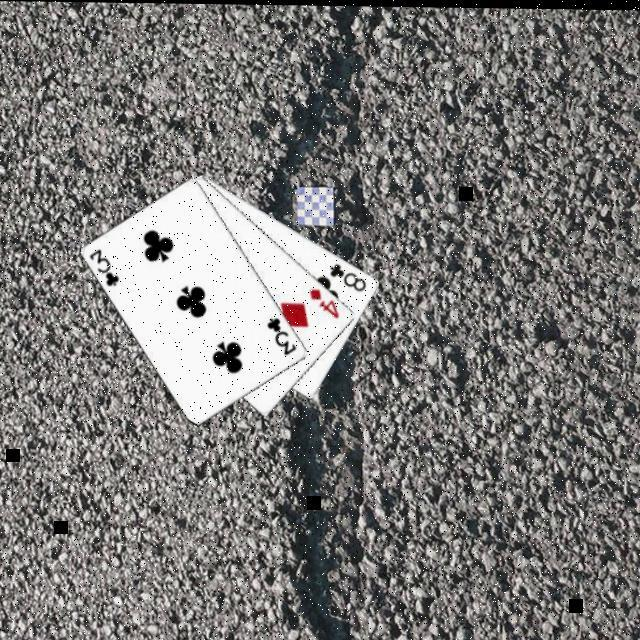3C: (85, 247, 122, 290), (263, 315, 299, 359)
4D: (306, 286, 342, 322)
8C: (326, 260, 368, 295)
